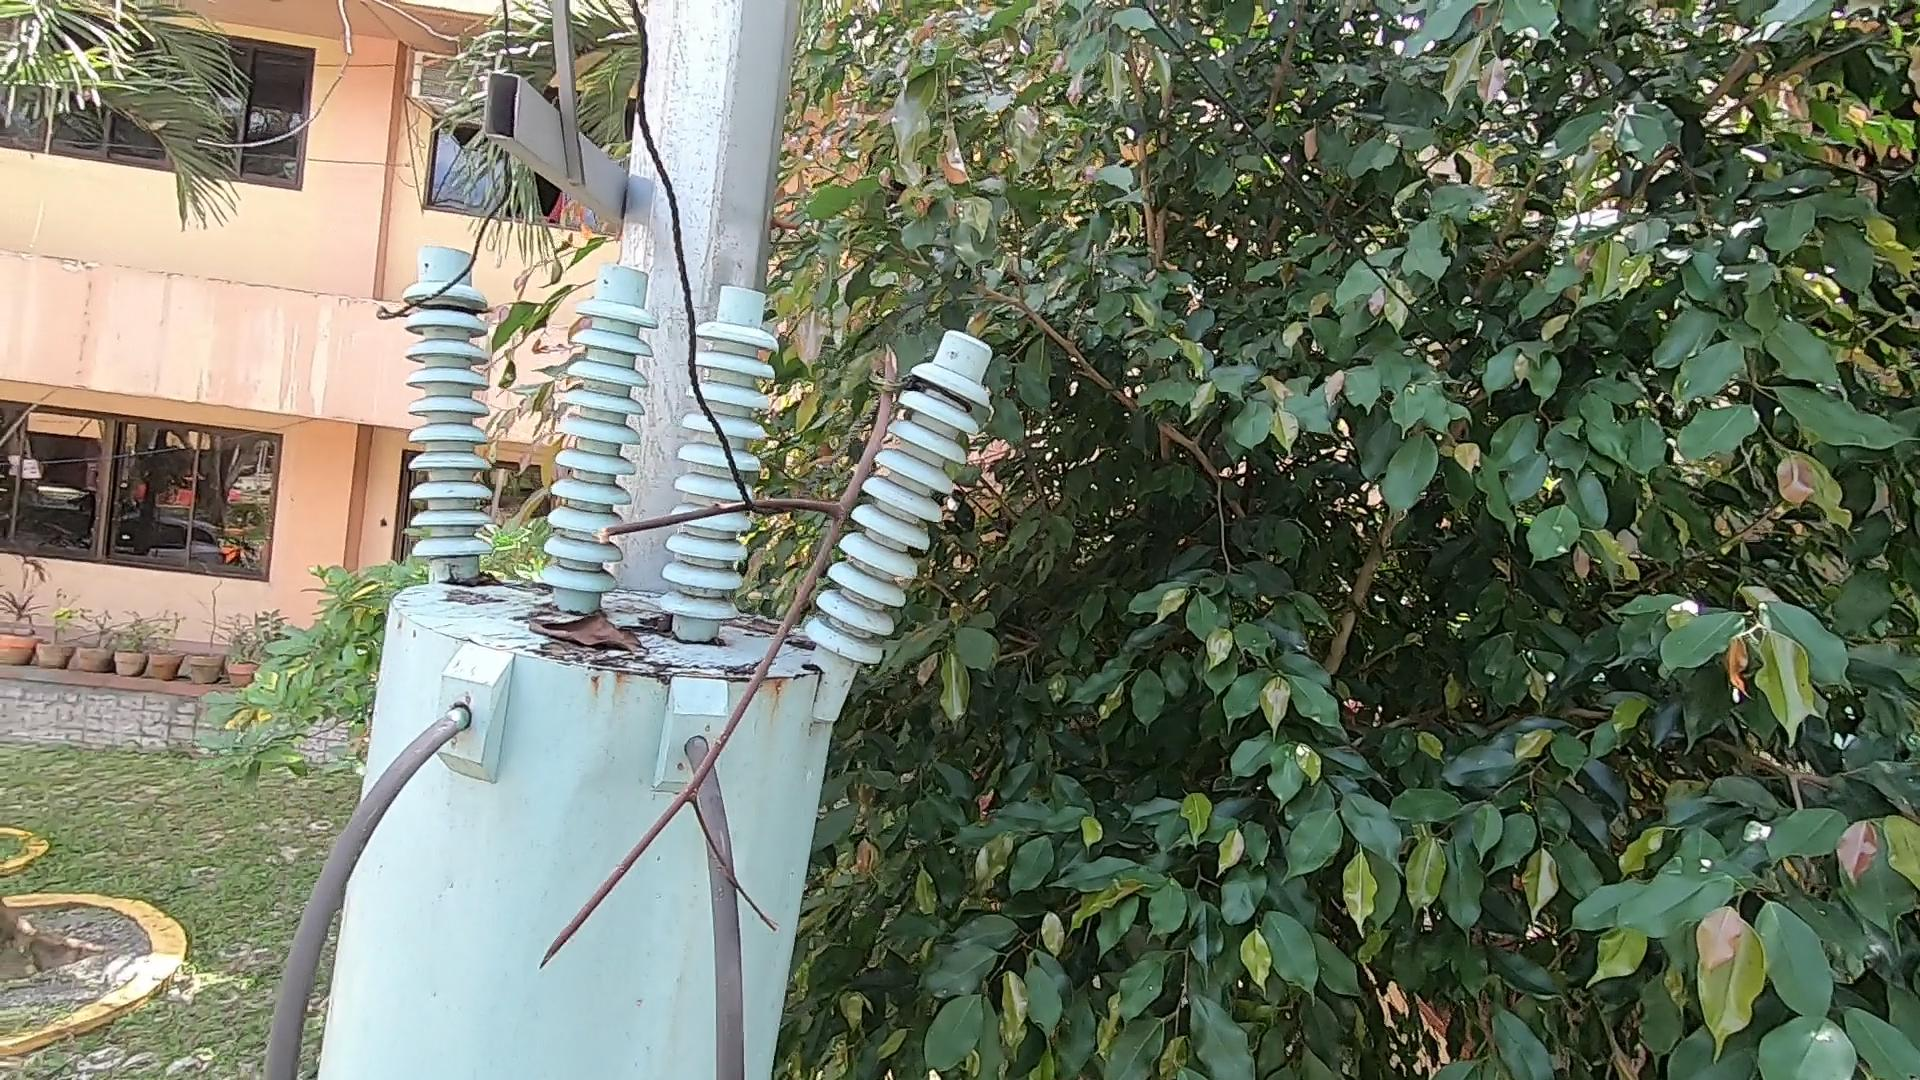leaf: (524, 597, 659, 669)
tree branch: (487, 278, 909, 984)
